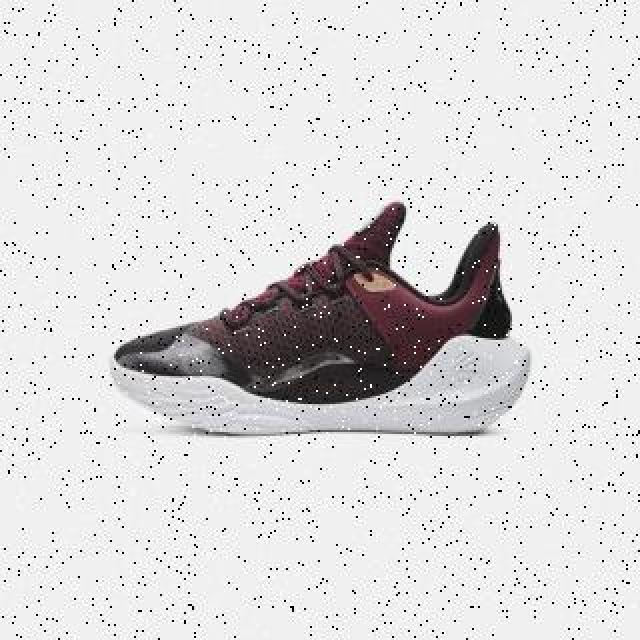shoe: (108, 201, 530, 437)
